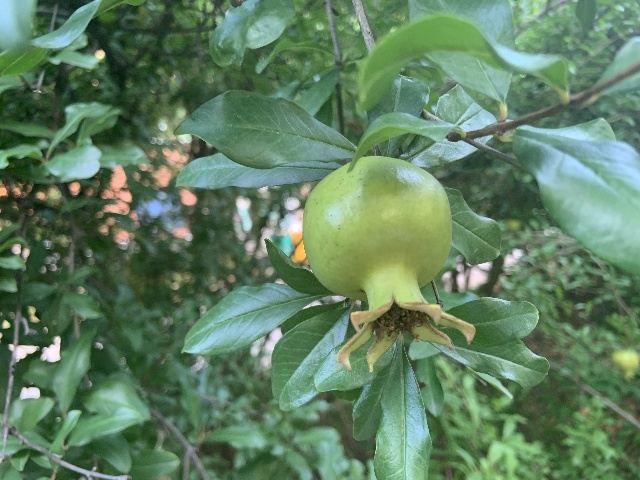mid-growth: (302, 155, 477, 374), (612, 351, 639, 380)
